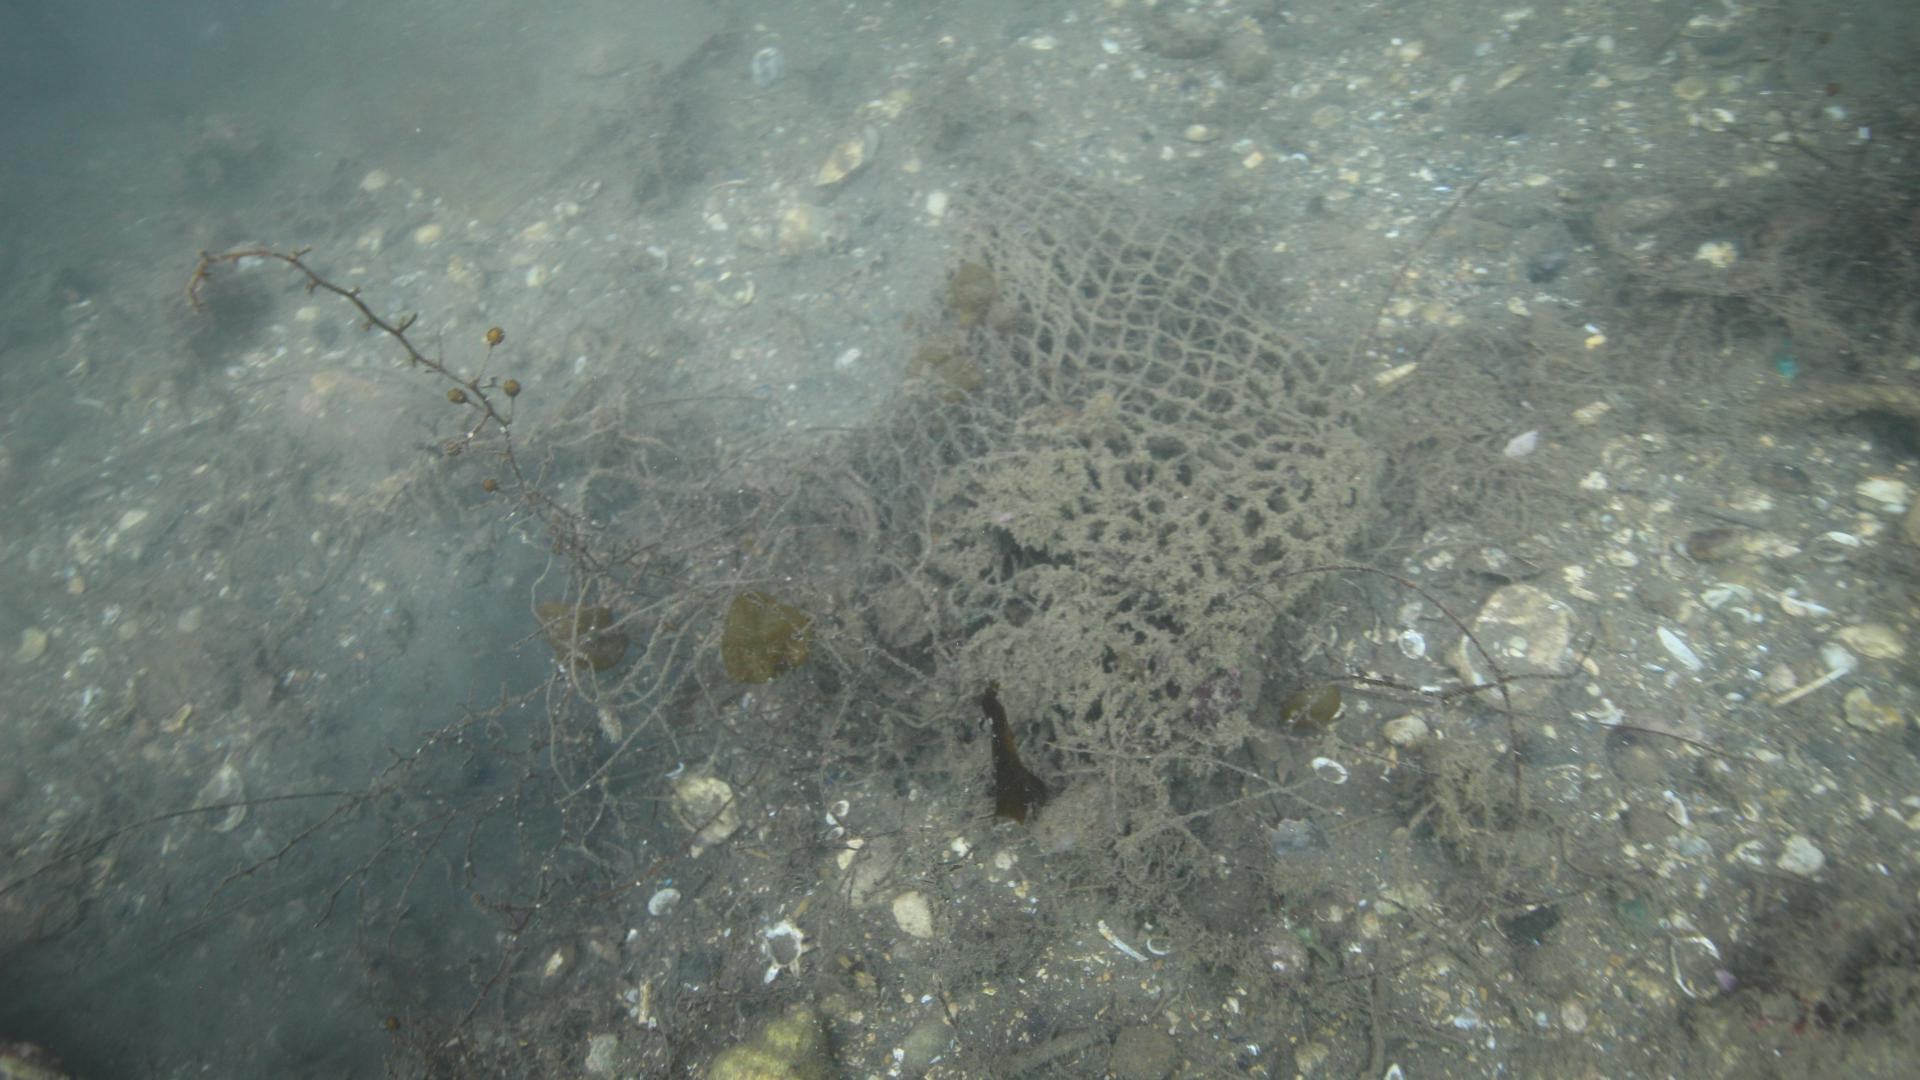fish net: (862, 164, 1369, 740)
